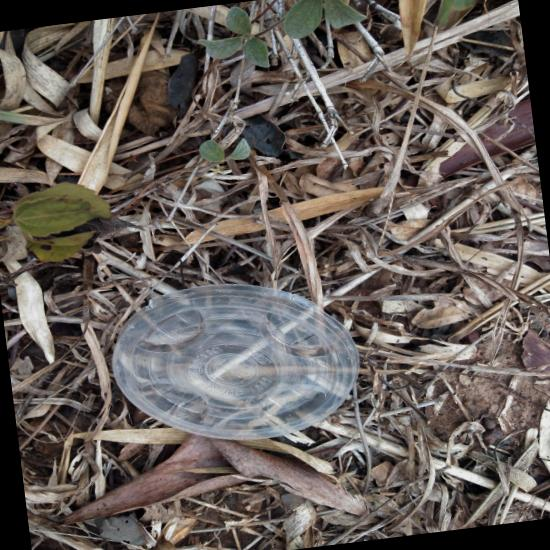Cigarette: (459, 121, 472, 151)
Paper bag: (381, 264, 447, 342)
